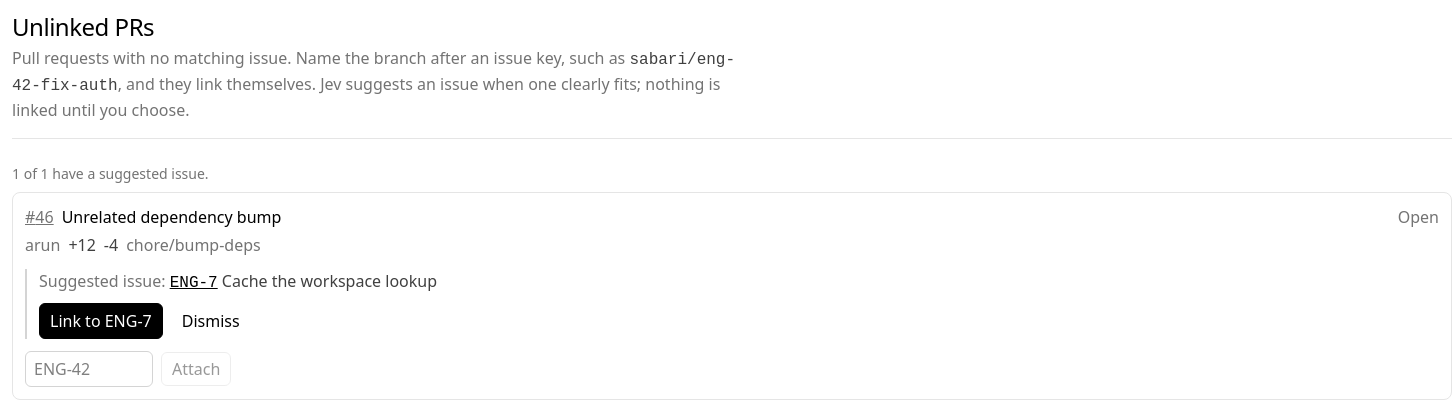
Scenario: UnlinkedPRs › dismisses a suggestion and keeps the manual key field
This screenshot has width=1452, height=417.
Click the button with aria-label "Dismiss suggestion ENG-7" at (211,321), box [171, 303, 251, 339]
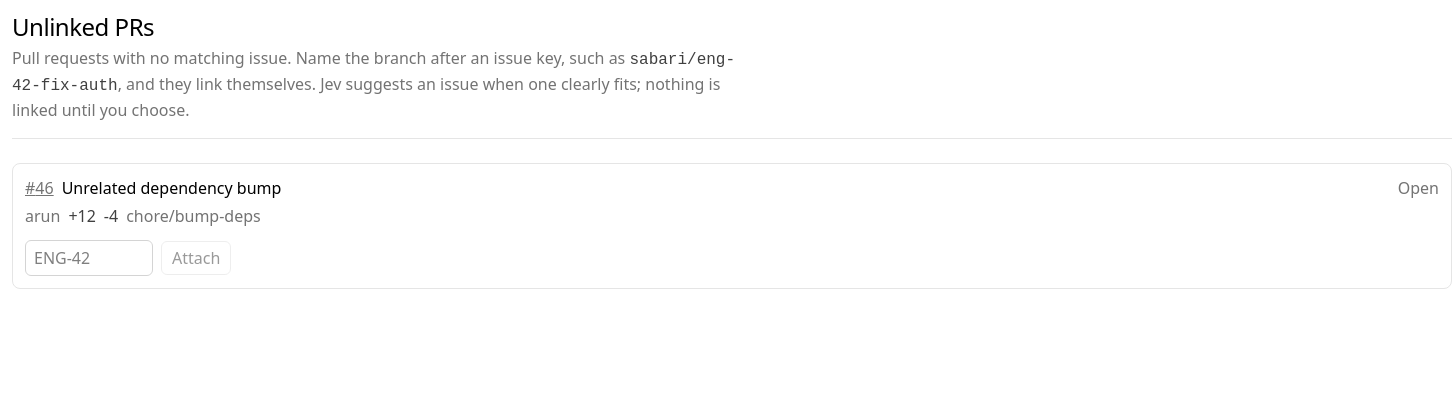
Expected: the field named "issue key" is shown, [25, 240, 153, 276]
Now the text "Suggested issue:" is gone
